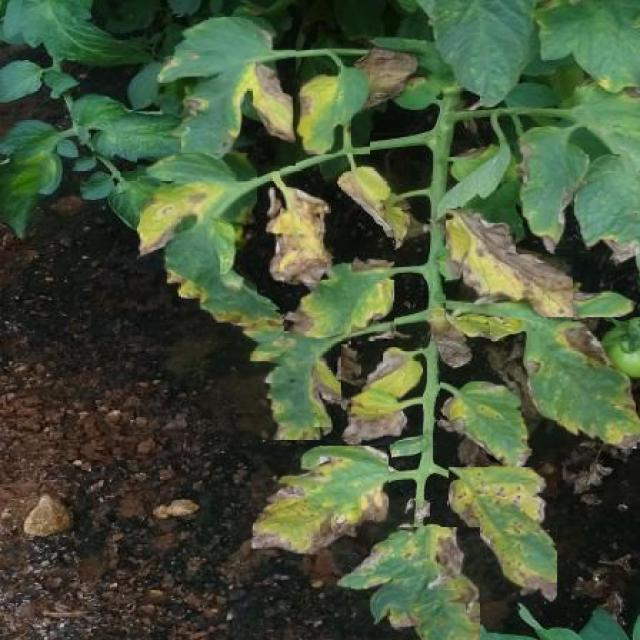Early Blight: (138, 153, 258, 323), (163, 17, 296, 166), (334, 527, 480, 640), (446, 209, 591, 318), (448, 462, 558, 602), (521, 322, 640, 448), (252, 446, 388, 554), (236, 326, 350, 441), (573, 154, 640, 317), (516, 127, 588, 254), (284, 258, 394, 338), (340, 345, 423, 445), (260, 187, 340, 290), (440, 382, 534, 468), (294, 66, 371, 155)
